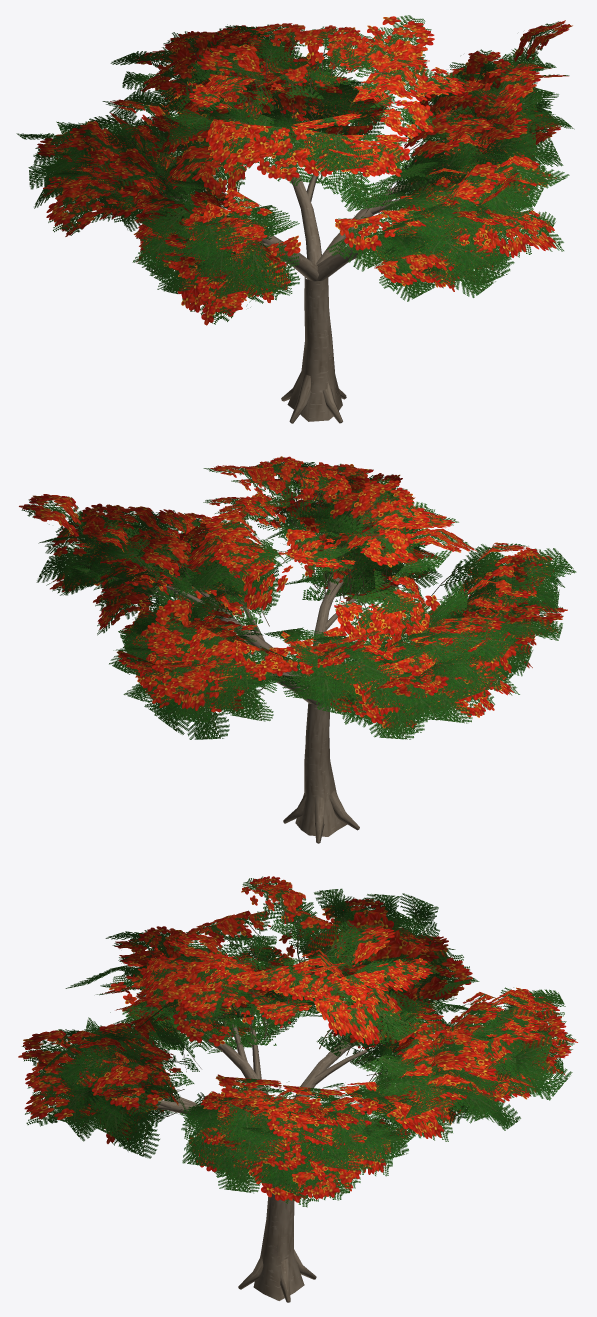
File: veg-tree-flame-poinciana-lod1-369f531d2528.glb
3 renders of one model, top to bottom at view 1: azimuth 30°, elevation 25°; view 2: azimuth 150°, elevation 25°; view 3: azimuth 270°, elevation 25°, orthographic. The views are drawn at different scales.
Visible parts, largest first — view 1: veg-tree-flame-poinciana_lod1; view 2: veg-tree-flame-poinciana_lod1; view 3: veg-tree-flame-poinciana_lod1.
Boxes of the visible parts, x1,y1,x2,y2 form: veg-tree-flame-poinciana_lod1: (16,15,574,423); veg-tree-flame-poinciana_lod1: (19,456,576,843); veg-tree-flame-poinciana_lod1: (18,876,577,1302).
Size of the model in its own units: 11.34 by 7.5 by 10.62.
2 materials, 2 textured.
